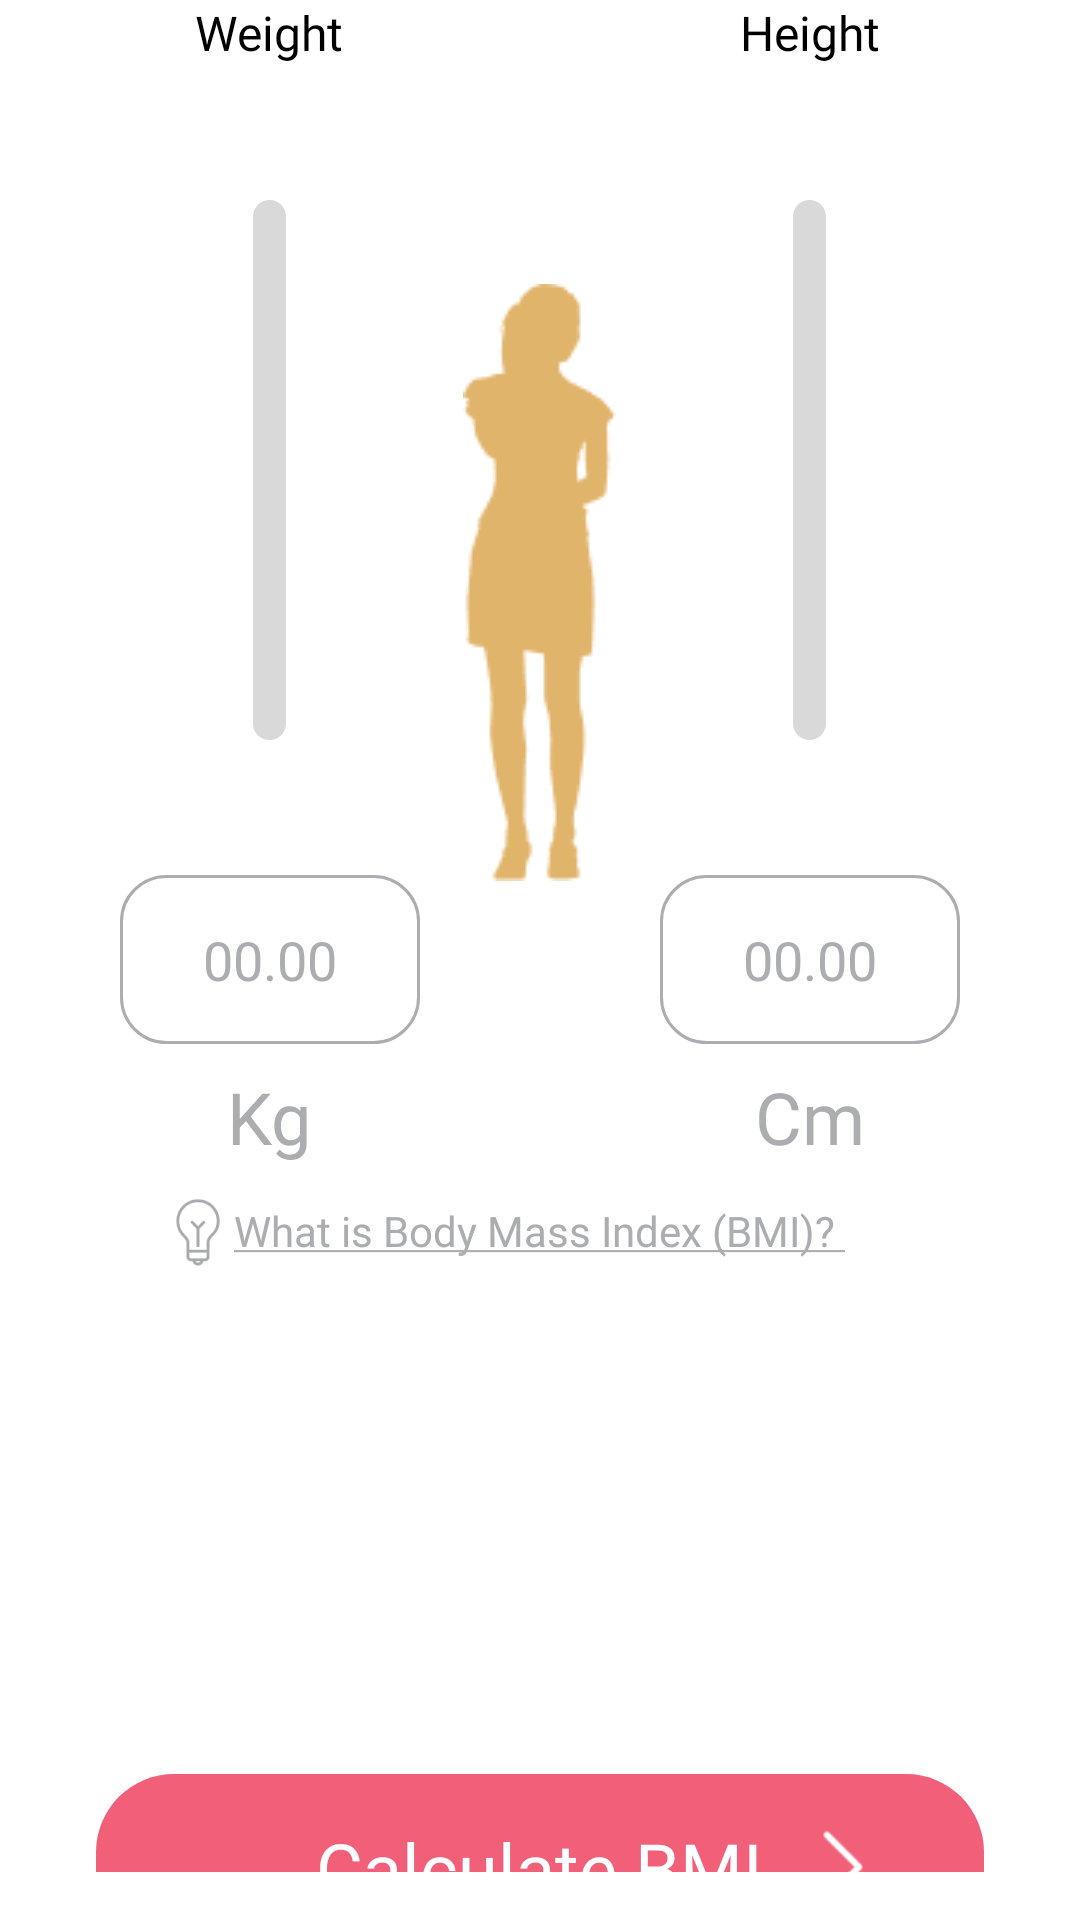

Icon bounding boxes for this 1080 × 1920 phone screenshot, format Rect(x1, y1, x2, y2):
tip: Rect(176, 1199, 220, 1266)
